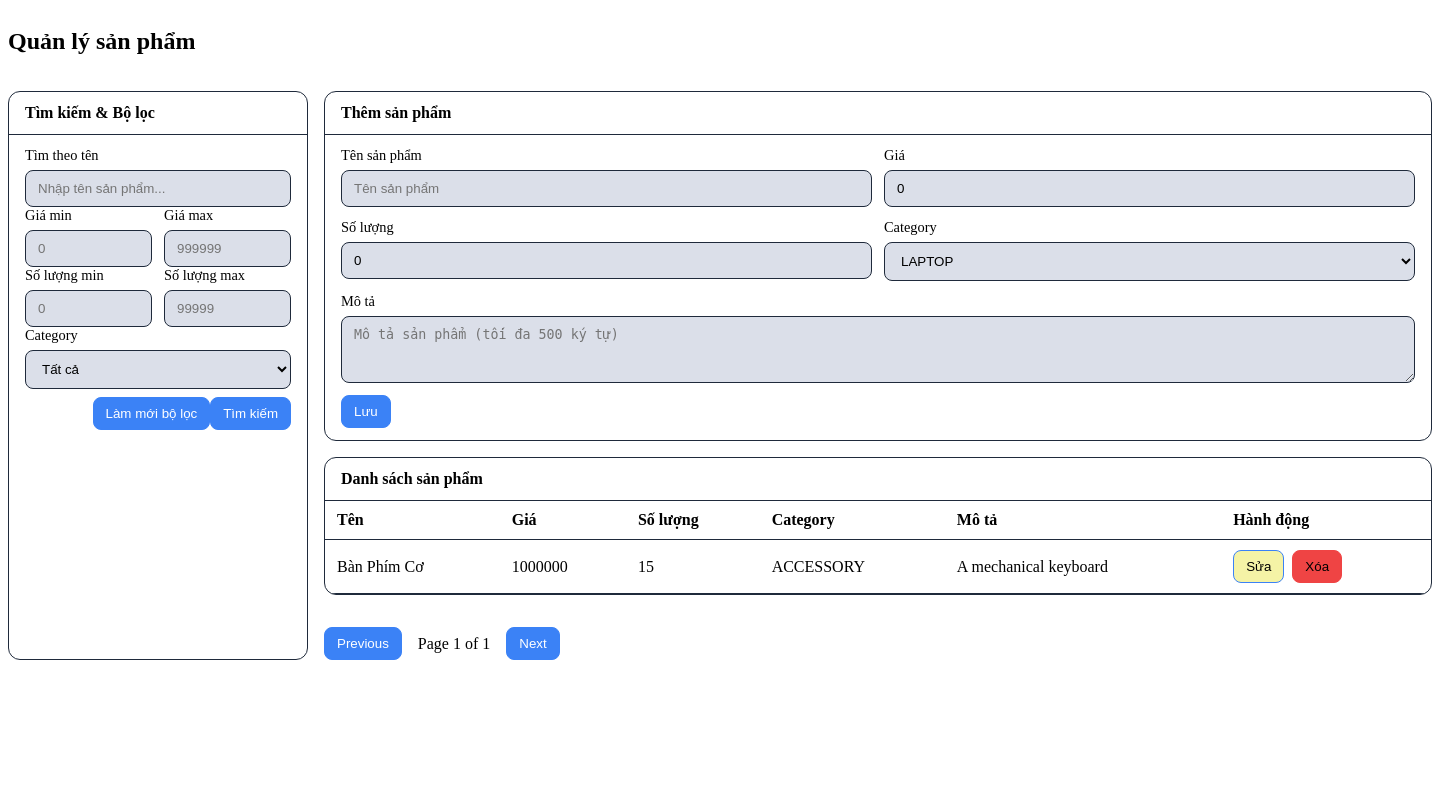
Test: Product Component Integration Tests (Form -> List) › TC-INT-03: Chỉnh sửa sản phẩm phải cập nhật ProductList
Expected: the text "Bàn Phím Cơ" is shown, [325,539,500,594]
Expected: the text "Bàn Phím Cơ (Đã Sale)" is not shown
Click the button with test id "edit-20" at (1259, 566), box [1233,550,1284,583]
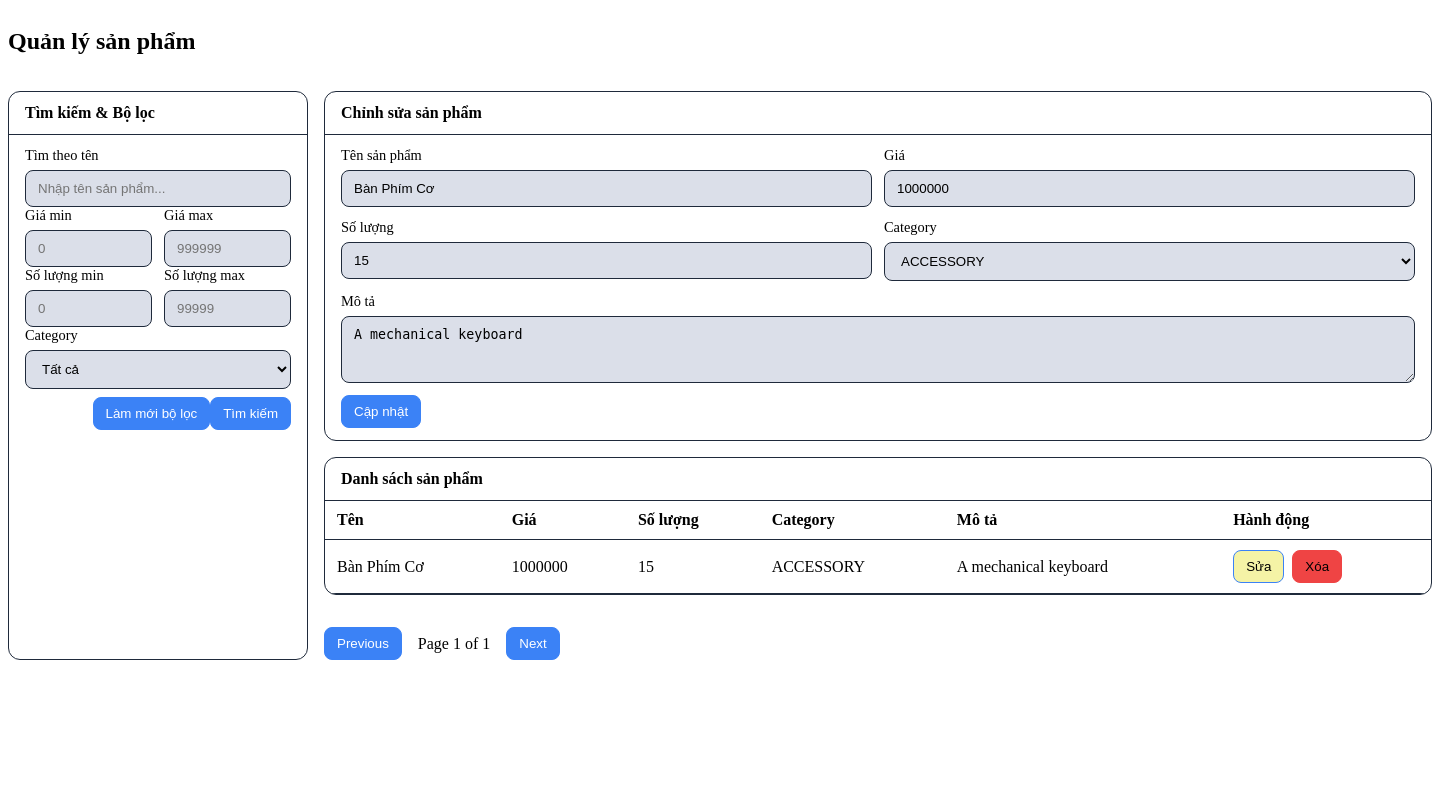
Expected: the field with test id "name-input" holds "Bàn Phím Cơ"
Note: Tương tác: Nhập tên mới và Submit
Replace the text in the field with test id "name-input" with "Bàn Phím Cơ (Đã Sale)" at (606, 188), box [341,170,872,207]
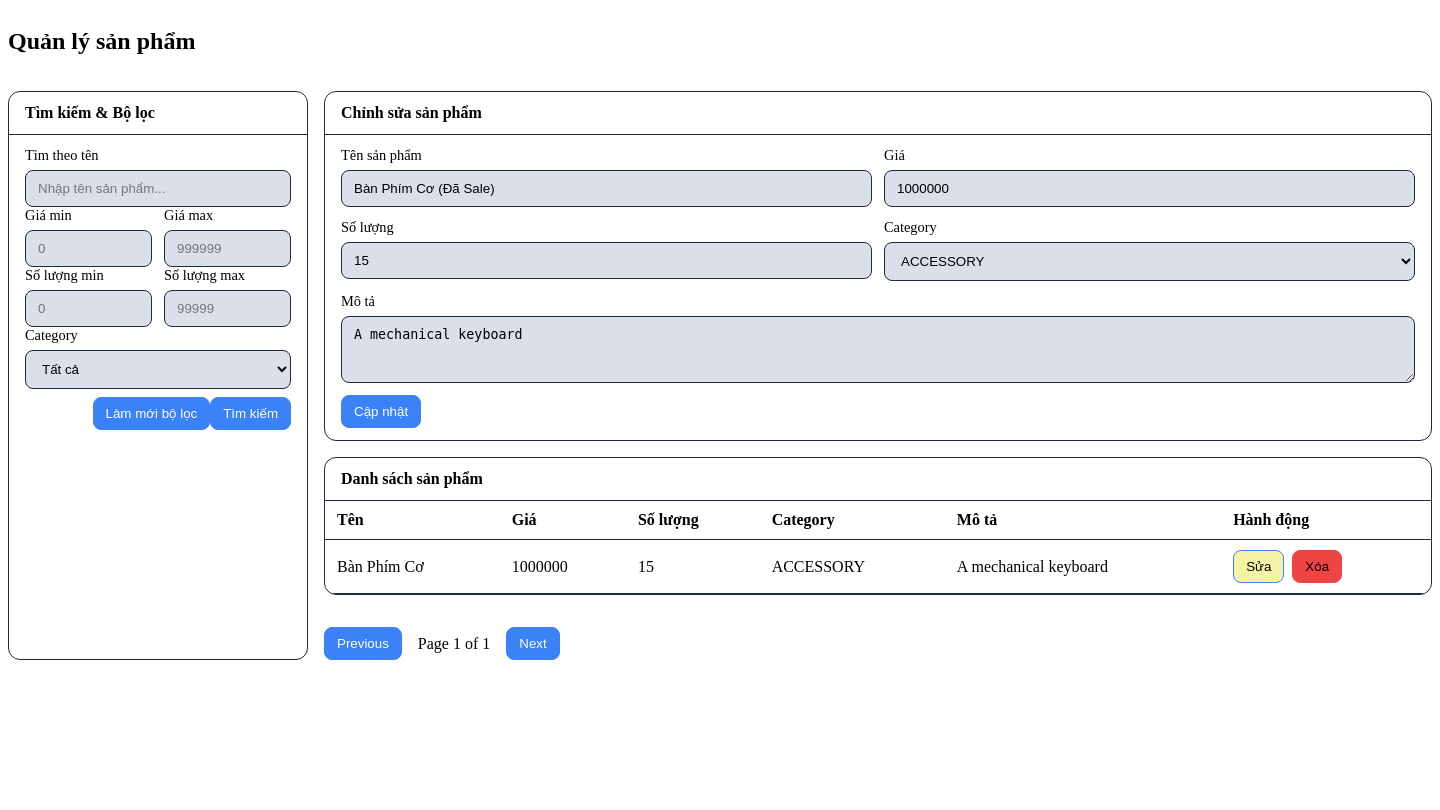
Click the button with test id "submit-product-btn" at (381, 411), box [341,395,421,428]
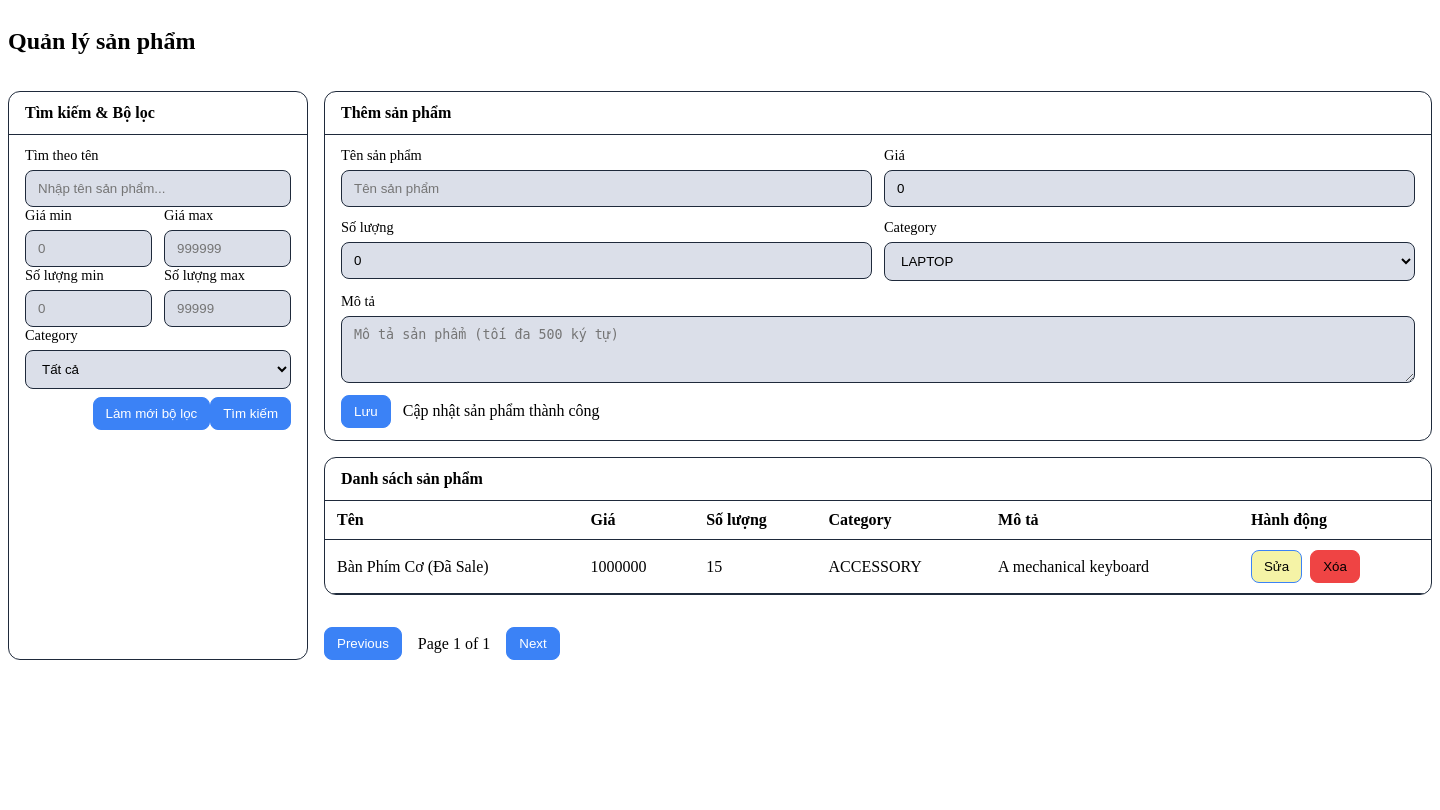
Expected: the text "Bàn Phím Cơ (Đã Sale)" is shown, [325,539,579,594]
